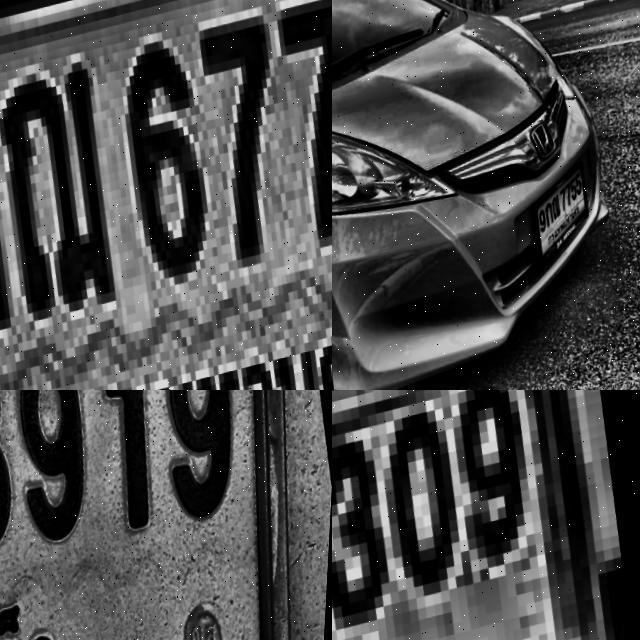license-plate: (0, 0, 332, 390), (0, 390, 332, 640), (332, 390, 640, 640), (526, 167, 604, 280)
